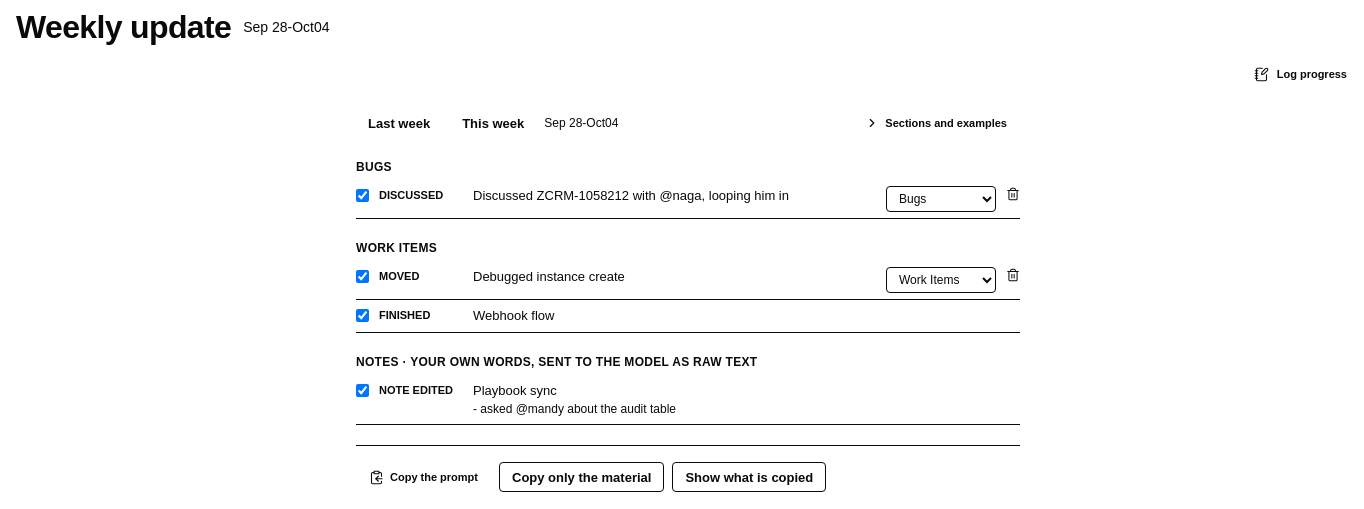
Test: WeeklyUpdatePage › copies a prompt that keeps partial progress partial and drops what was unticked
Expected: the button "Debugged instance create" is shown, [473,267,625,287]
Click the checkbox named "Include: Debugged instance create". click: [362, 277]
box: [356,270,369,283]
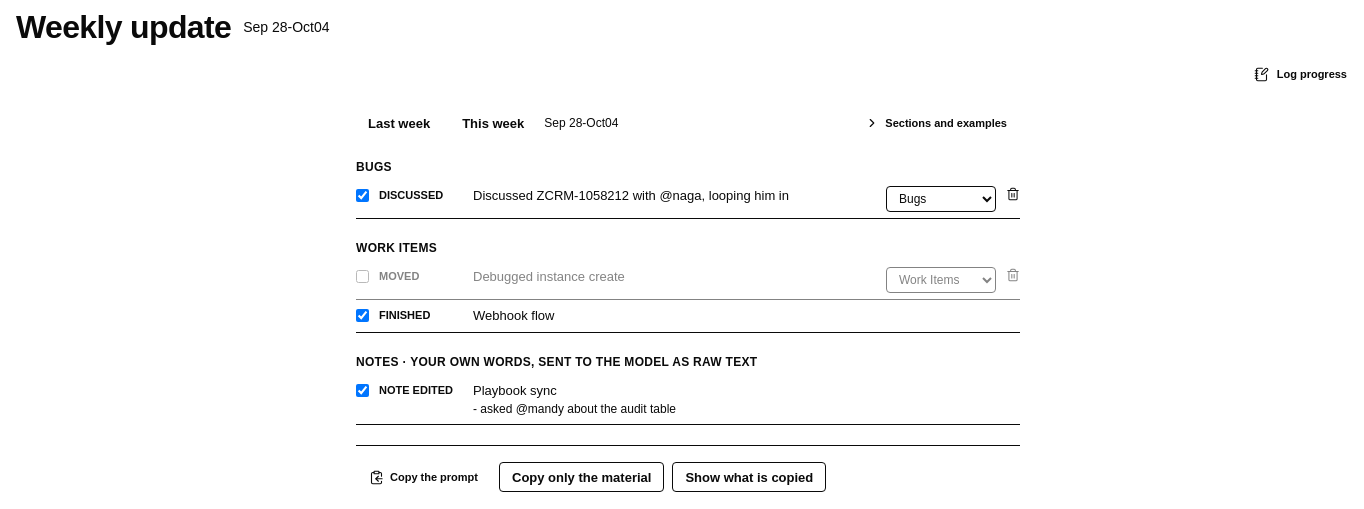
Click the button "Copy the prompt". click: [424, 477]
box: [356,463,491,491]
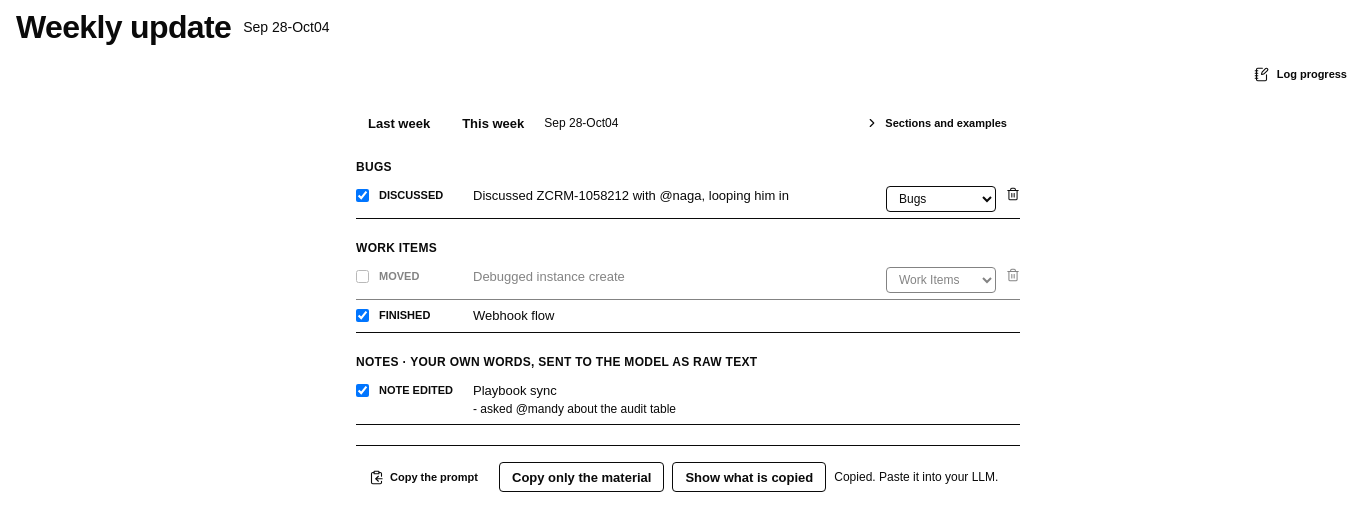
Result: the text "Copied. Paste it into your LLM." is shown at [834,468,998,486]
